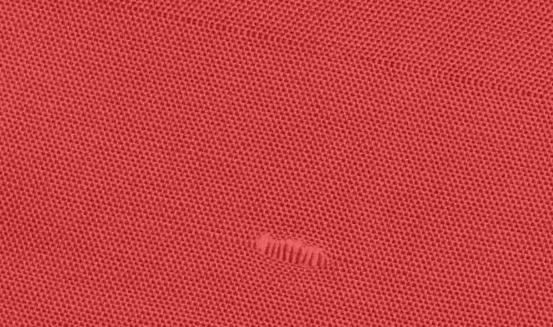slub: (251, 228, 342, 274)
